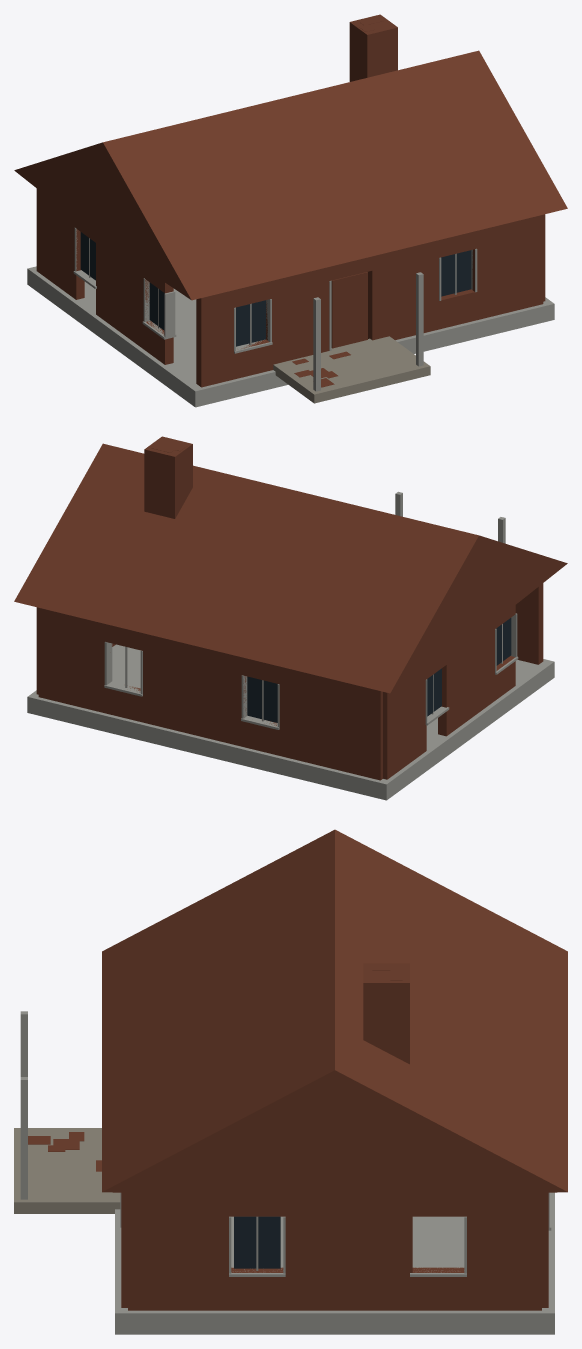
The model's file is GB_TownHouse_Damaged_01.glb.
The picture shows the model from 3 angles, top to bottom: view 1: azimuth 30°, elevation 25°; view 2: azimuth 150°, elevation 25°; view 3: azimuth 270°, elevation 25°; orthographic projection. The views are drawn at different scales.
Visible parts, largest first — view 1: GB_TownHouse_Damaged_01; view 2: GB_TownHouse_Damaged_01; view 3: GB_TownHouse_Damaged_01.
Part boxes in pixels (x1,y1,x2,y2): GB_TownHouse_Damaged_01: (14,14,567,407); GB_TownHouse_Damaged_01: (14,436,567,800); GB_TownHouse_Damaged_01: (14,829,567,1334).
Bounding box in the file's own units: 11 × 6.65 × 10.7.
Materials: 1 (1 with a texture image).
